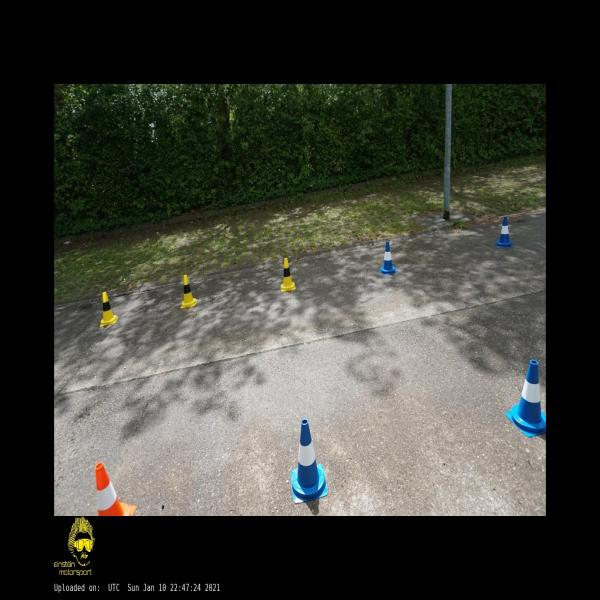blue_cone: (291, 419, 328, 504), (506, 360, 546, 438), (378, 242, 398, 275), (494, 216, 514, 248)
orange_cone: (95, 462, 136, 515)
yellow_cone: (100, 292, 118, 326), (280, 258, 296, 292), (181, 275, 197, 308)
